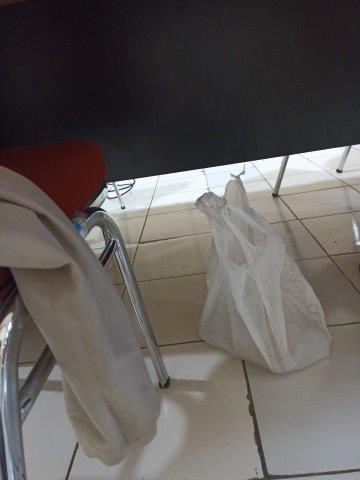plastik: (196, 178, 330, 373)
